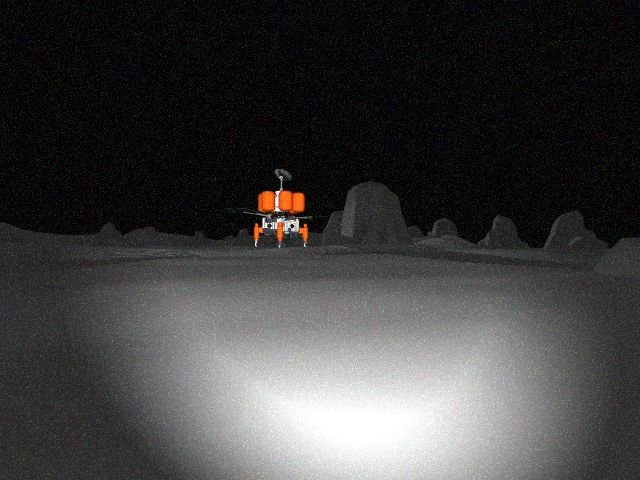homebase: (225, 163, 330, 251)
